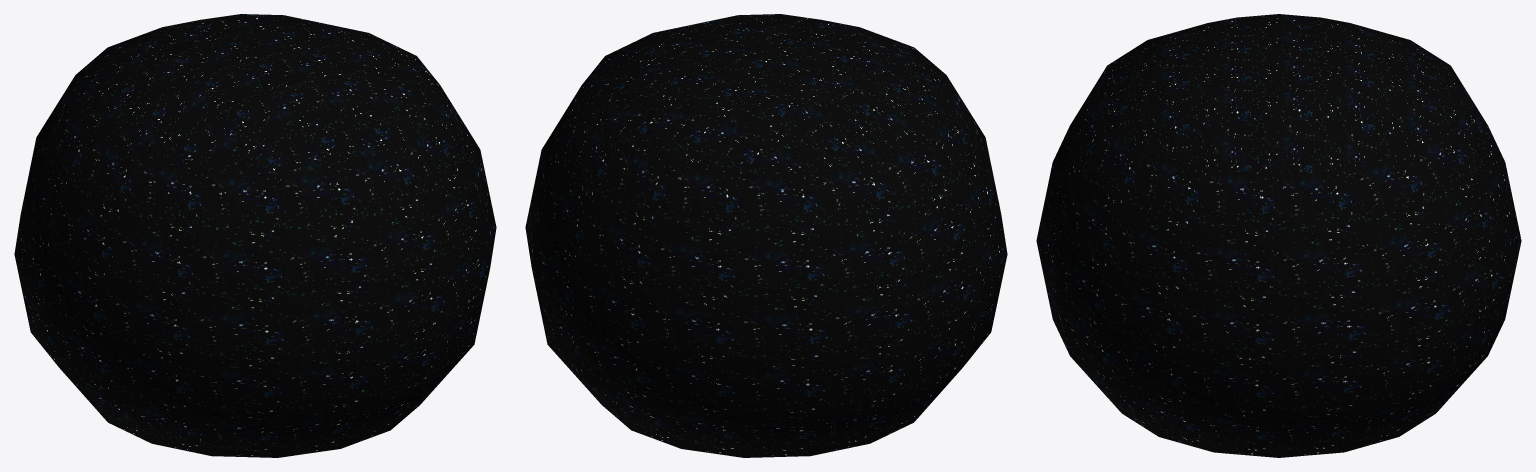
File: Sky.obj
The picture shows the model from 3 angles, left to right: view 1: azimuth 30°, elevation 25°; view 2: azimuth 150°, elevation 25°; view 3: azimuth 270°, elevation 25°; orthographic projection.
Bounding box in the file's own units: 12955 × 10689 × 12955.
2 materials, 2 textured.
